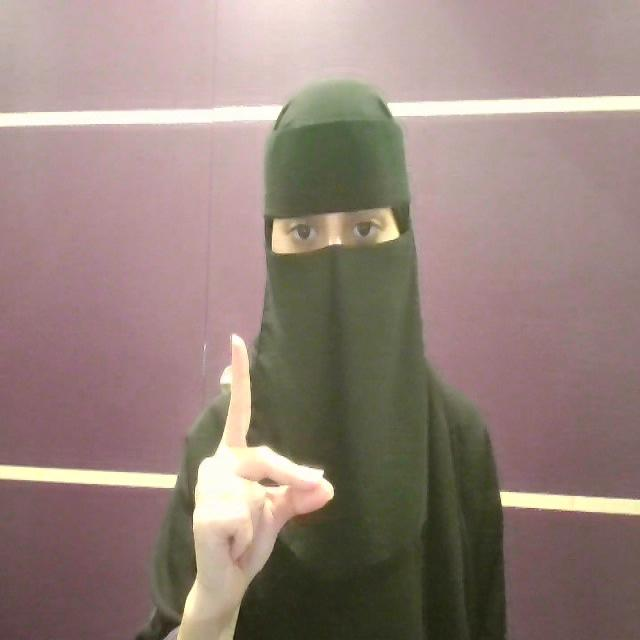emergency: (176, 331, 334, 636)
